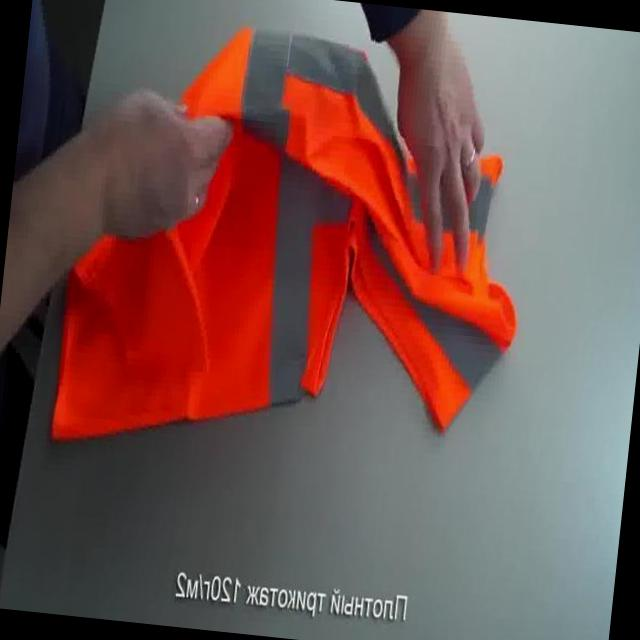vest: (41, 6, 550, 495)
